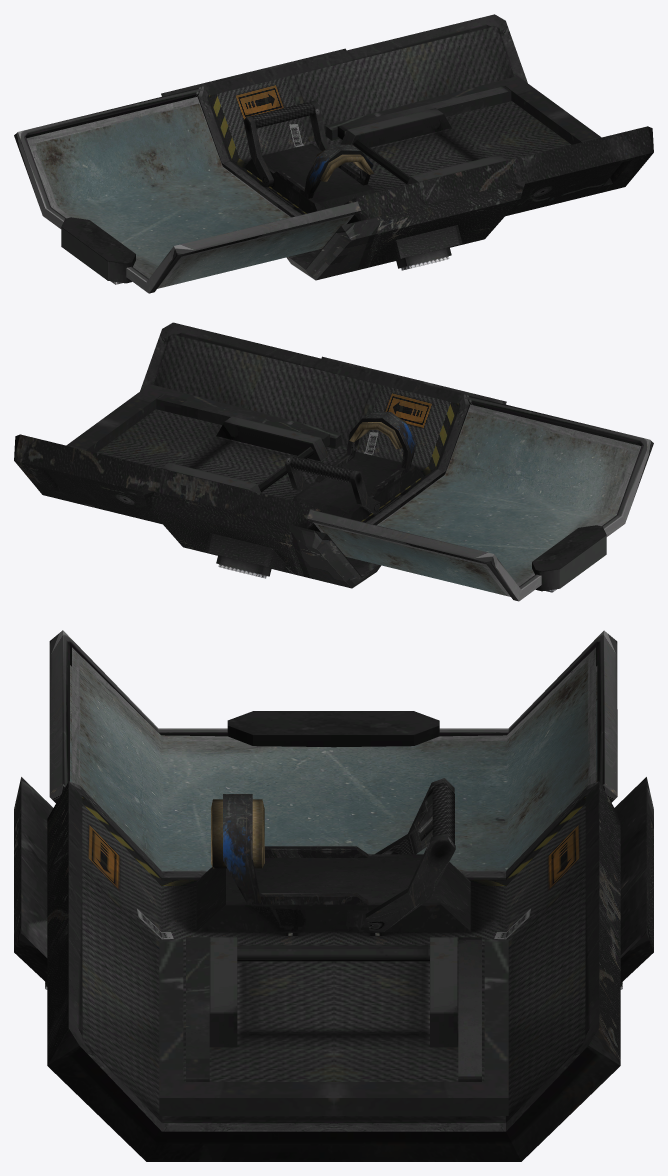
The model's file is t6_wpn_shield_stow_world_LOD1.obj.
The picture shows the model from 3 angles, top to bottom: view 1: azimuth 30°, elevation 25°; view 2: azimuth 150°, elevation 25°; view 3: azimuth 270°, elevation 25°; orthographic projection. The views are drawn at different scales.
Parts seen in each view (by area): view 1: mtl_t6_wpn_shield, mtl_t6_wpn_shield_glass, mtl_t6_wpn_shield_camo1, mtl_t6_wpn_shield_camo2, mtl_t6_wpn_shield_camo3, mtl_t6_wpn_shield_nodecal; view 2: mtl_t6_wpn_shield, mtl_t6_wpn_shield_glass, mtl_t6_wpn_shield_camo1, mtl_t6_wpn_shield_camo2, mtl_t6_wpn_shield_camo3, mtl_t6_wpn_shield_nodecal; view 3: mtl_t6_wpn_shield, mtl_t6_wpn_shield_glass, mtl_t6_wpn_shield_camo1, mtl_t6_wpn_shield_nodecal, mtl_t6_wpn_shield_camo3.
Part boxes in pixels (x1,y1,x2,y2): mtl_t6_wpn_shield: (14,25,601,293); mtl_t6_wpn_shield_glass: (26,96,354,288); mtl_t6_wpn_shield_camo1: (197,14,653,280); mtl_t6_wpn_shield_camo2: (316,152,653,280); mtl_t6_wpn_shield_camo3: (252,101,360,183); mtl_t6_wpn_shield_nodecal: (161,48,346,268); mtl_t6_wpn_shield: (66,334,653,601); mtl_t6_wpn_shield_glass: (312,404,641,596); mtl_t6_wpn_shield_camo1: (14,322,469,588); mtl_t6_wpn_shield_camo2: (14,460,351,588); mtl_t6_wpn_shield_camo3: (290,412,416,483); mtl_t6_wpn_shield_nodecal: (321,356,506,576); mtl_t6_wpn_shield: (45,630,622,1122); mtl_t6_wpn_shield_glass: (70,647,597,871); mtl_t6_wpn_shield_camo1: (14,777,653,1161); mtl_t6_wpn_shield_nodecal: (21,777,646,957); mtl_t6_wpn_shield_camo3: (223,783,454,860).
Bounding box in the file's own units: 115 × 22.7 × 74.09.
